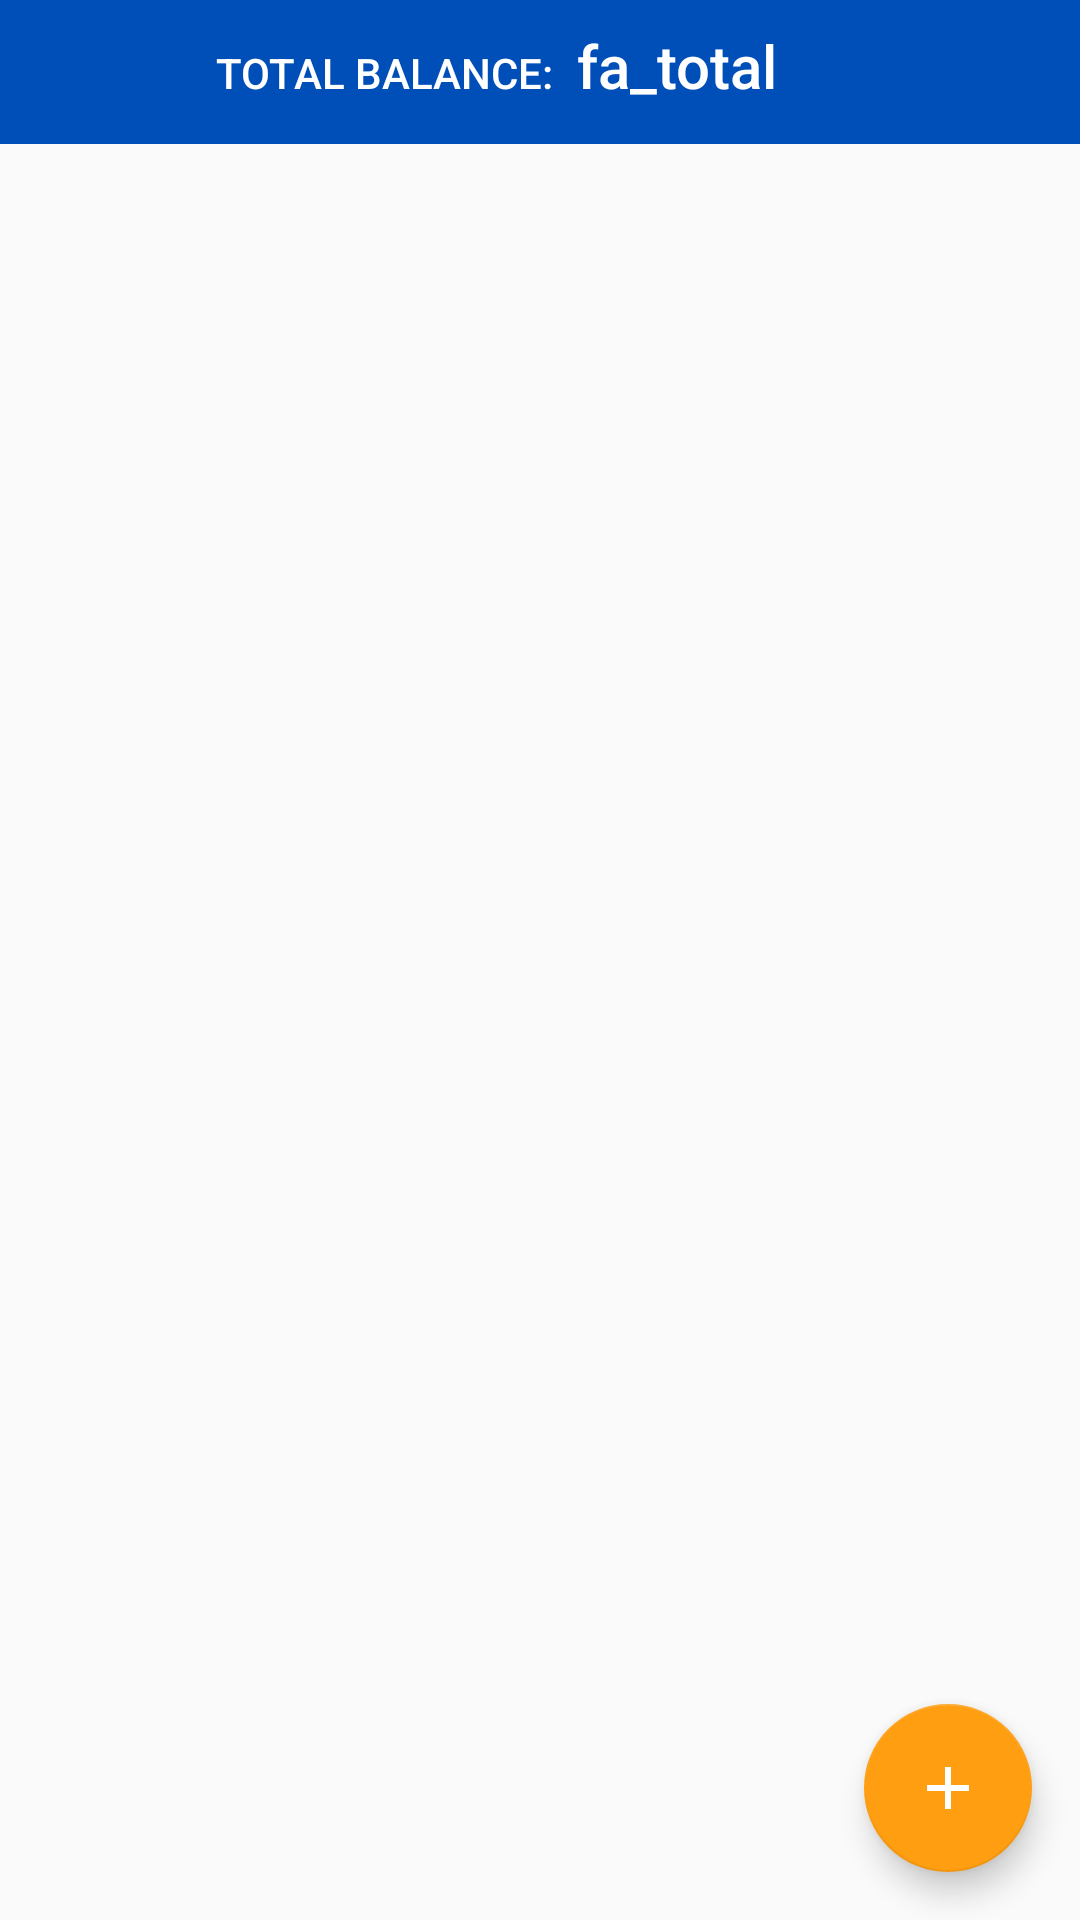

Screen size 1080x1920. Icon name, then its center in pixels as (x=x, y=y):
fab: (x=948, y=1788)
